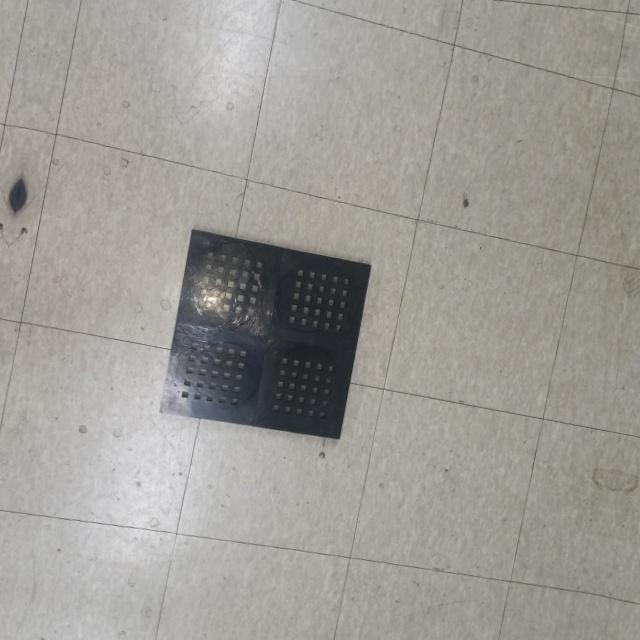pallet: (151, 223, 377, 449)
